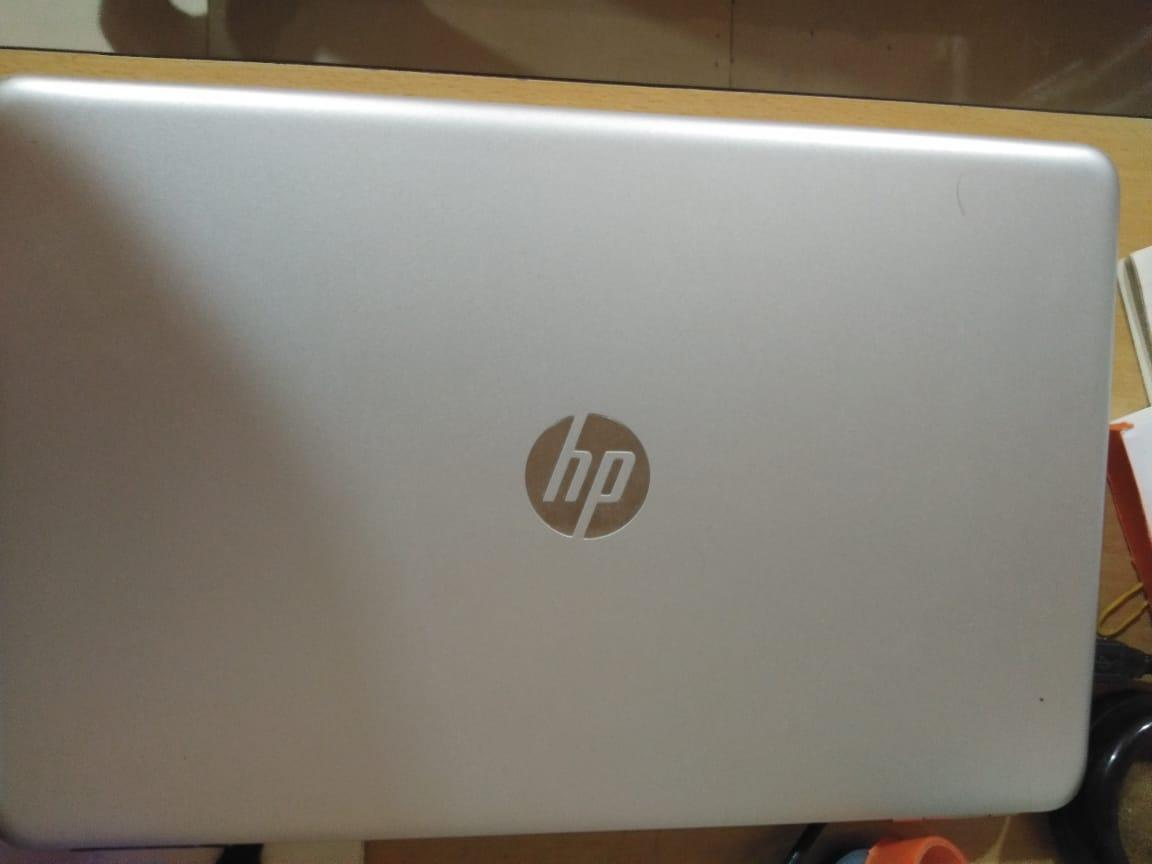laptop: (1, 63, 1130, 845)
